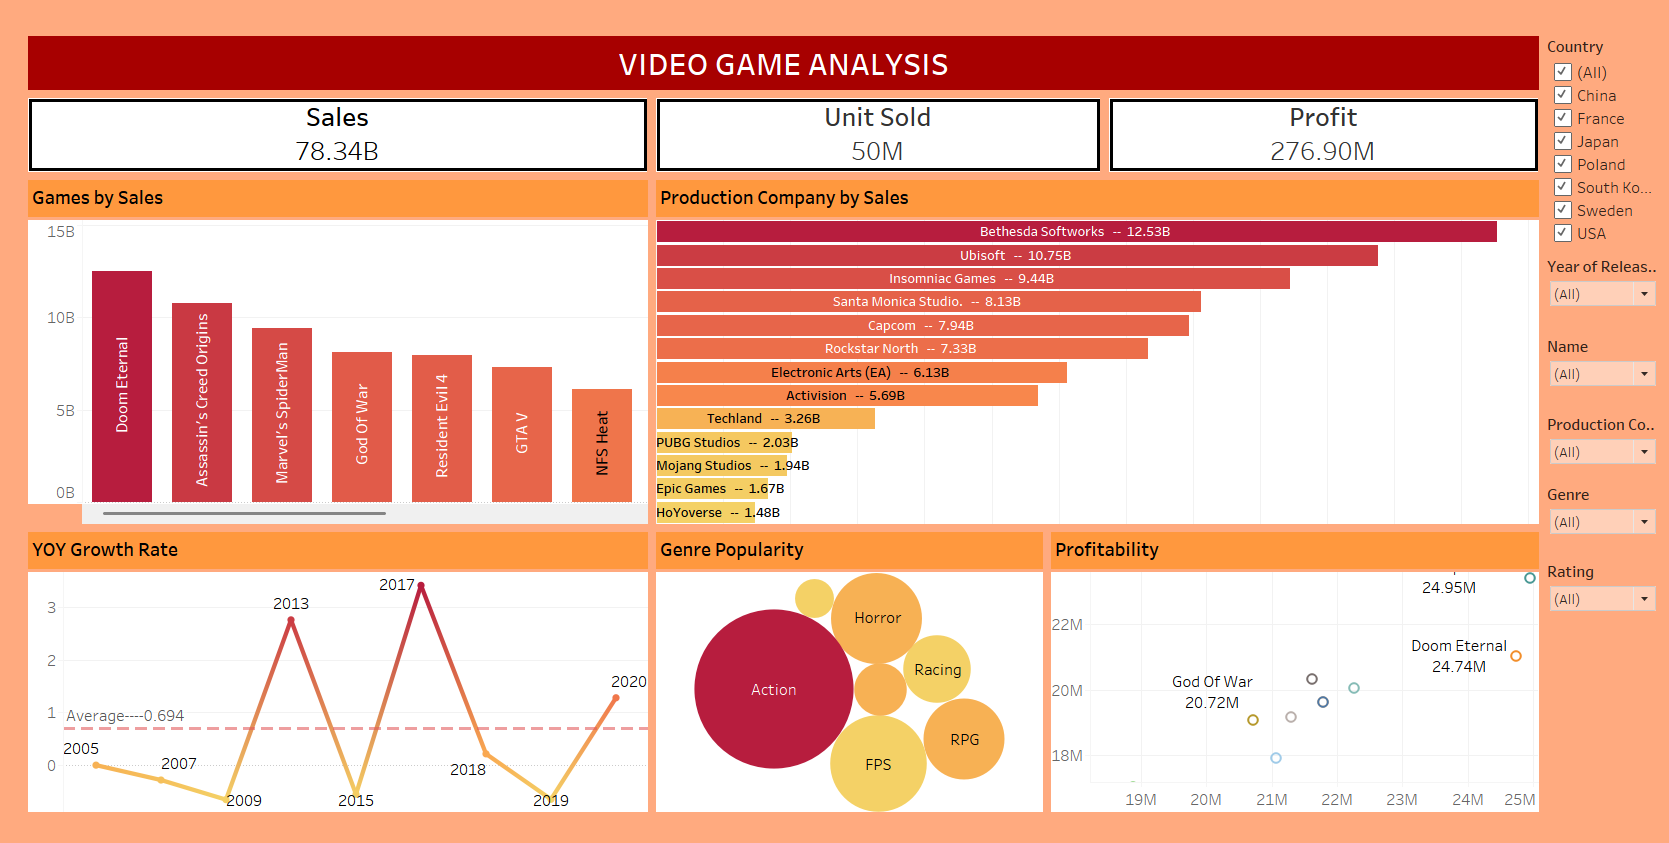

The page's visual inventory and layout, read from the dashboard file:
{"tool":"tableau","page":{"name":"Dashboard 1","canvas":[1655,800],"ordinal":0},"visuals":[{"type":"title","box":[8,8,1519,62]},{"type":"filter","title":"Games by Sales","param":"[federated.1plqsq6060pwl61d7ns9a0waer86].[none:Country:nk]","box":[1527,8,120,220]},{"type":"worksheet","title":"KPI Sales","mark":"Automatic","box":[8,70,628,82]},{"type":"worksheet","title":"KPI Unit Sold","mark":"Automatic","box":[636,70,453.5,82]},{"type":"worksheet","title":"KPI Profit","mark":"Automatic","box":[1089.5,70,437.5,82]},{"type":"worksheet","title":"Games by Sales","mark":"Automatic","rows":["Sales"],"cols":["name"],"box":[8,152,628,352]},{"type":"worksheet","title":"Production Company by Sales","mark":"Automatic","rows":["Production Company"],"cols":["Sales"],"box":[636,152,891,352]},{"type":"filter","title":"Games by Sales","param":"[federated.1plqsq6060pwl61d7ns9a0waer86].[yr:Release Date:ok]","box":[1527,228,120,80]},{"type":"filter","title":"Games by Sales","param":"[federated.1plqsq6060pwl61d7ns9a0waer86].[none:name:nk]","box":[1527,308,120,78]},{"type":"filter","title":"Production Company by Sales","param":"[federated.1plqsq6060pwl61d7ns9a0waer86].[none:Production Company:nk]","box":[1527,386,120,70]},{"type":"filter","title":"Games by Sales","param":"[federated.1plqsq6060pwl61d7ns9a0waer86].[none:Genre:nk]","box":[1527,456,120,77]},{"type":"worksheet","title":"YOY Growth Rate","mark":"Automatic","rows":["Calculation_588845697814458370"],"cols":["Release Date"],"box":[8,504,628,288]},{"type":"worksheet","title":"Genre Popularity","mark":"Circle","box":[636,504,395,288]},{"type":"worksheet","title":"Profitability","mark":"Automatic","rows":["Calculation_588845697815715843"],"cols":["Profit"],"box":[1031,504,496,288]},{"type":"filter","title":"Games by Sales","param":"[federated.1plqsq6060pwl61d7ns9a0waer86].[none:rating:ok]","box":[1527,533,120,61]}]}

Visuals, with their boxes in screenshot pixels (x1, y1, x2, y2):
title: 25:25:1536:87
"Games by Sales" filter: 1536:25:1655:244
"KPI Sales" worksheet: 25:87:650:169
"KPI Unit Sold" worksheet: 650:87:1101:169
"KPI Profit" worksheet: 1101:87:1536:169
"Games by Sales" worksheet: 25:169:650:519
"Production Company by Sales" worksheet: 650:169:1536:519
"Games by Sales" filter: 1536:244:1655:324
"Games by Sales" filter: 1536:324:1655:401
"Production Company by Sales" filter: 1536:401:1655:471
"Games by Sales" filter: 1536:471:1655:547
"YOY Growth Rate" worksheet: 25:519:650:805
"Genre Popularity" worksheet (Circle marks): 650:519:1043:805
"Profitability" worksheet: 1043:519:1536:805
"Games by Sales" filter: 1536:547:1655:608
